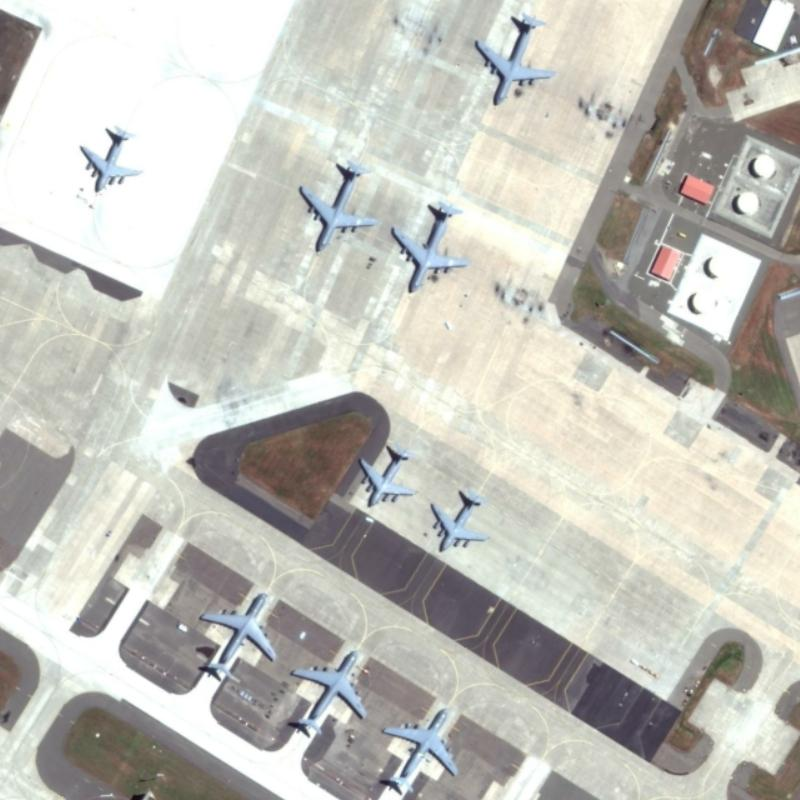A3: (76, 118, 143, 198), (354, 436, 418, 512), (426, 484, 492, 557)
A4: (471, 8, 558, 110), (388, 196, 471, 297), (283, 644, 370, 739), (297, 155, 380, 252), (377, 704, 460, 797), (194, 590, 279, 680)
